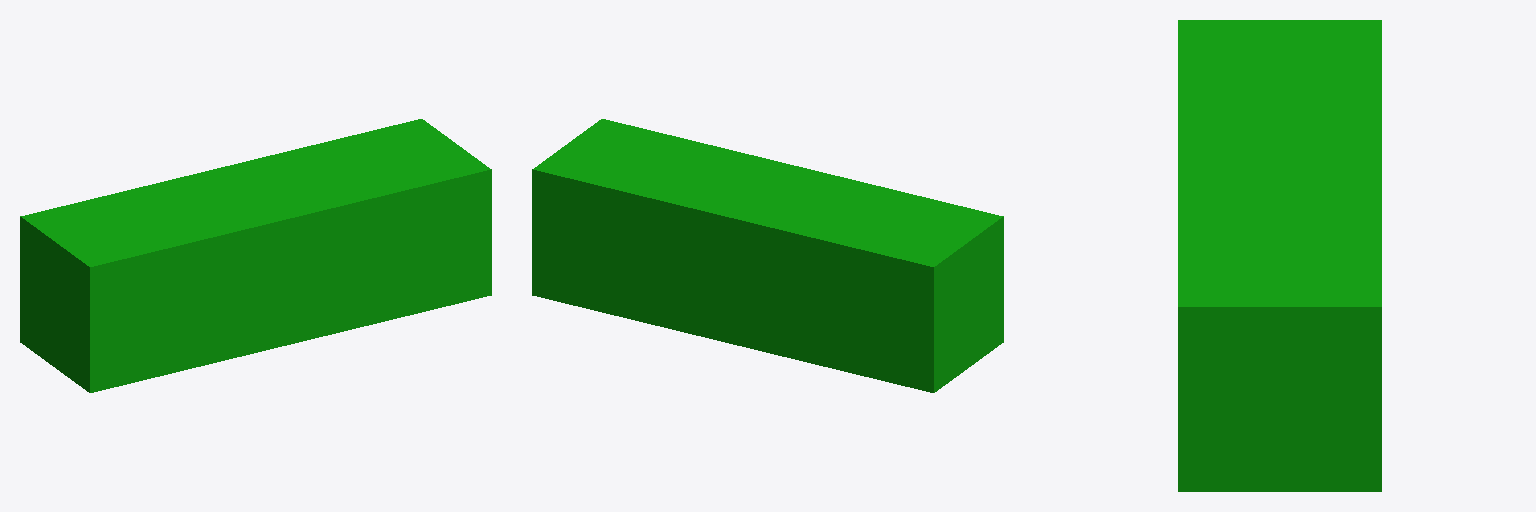
URDF robot description (block):
<?xml version="1.0"?>

<robot name="block">

  <link name="base_link">
    <contact>
      <lateral_friction value="1.0"/>
      <spinning_friction value=".001"/>
    </contact>
    <inertial>
      <origin rpy="0 0 0" xyz="0 0 0"/>
      <mass value="0.02"/>
      <inertia ixx="1" ixy="0" ixz="0" iyy="1" iyz="0" izz="1"/>
    </inertial>
    <visual>
      <origin rpy="0 0 0" xyz="0.0 0.0 0.0"/>
      <geometry>
        <box size="0.10 0.03 0.03"/>
      </geometry>
      <material name="blockmat">
        <color rgba="0.1 0.7 0.1 1"/>
      </material>
    </visual>
    <collision>
      <origin rpy="0 0 0" xyz="0.0 0.0 0.0"/>
      <geometry>
        <box size="0.10 0.03 0.03"/>
      </geometry>
    </collision>
  </link>
</robot>

--- Facts derived from the render (not from the file) ---
The picture shows the robot from 3 angles, left to right: view 1: azimuth 30°, elevation 25°; view 2: azimuth 150°, elevation 25°; view 3: azimuth 270°, elevation 25°; orthographic projection.
Robot: block — 1 links, 0 joints (none); root link base_link; default pose: every joint at zero.
Links seen in each view (by area): view 1: base_link; view 2: base_link; view 3: base_link.
Boxes of the visible links, bbox=[...] form: base_link: bbox=[20, 119, 491, 392]; base_link: bbox=[532, 119, 1003, 392]; base_link: bbox=[1178, 20, 1381, 491].
Size in the robot's own frame: 0.1 by 0.03 by 0.03 metres.
Geometry: primitives only (box / cylinder / sphere), no mesh files.